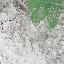Morning glory: (18, 0, 64, 64)
